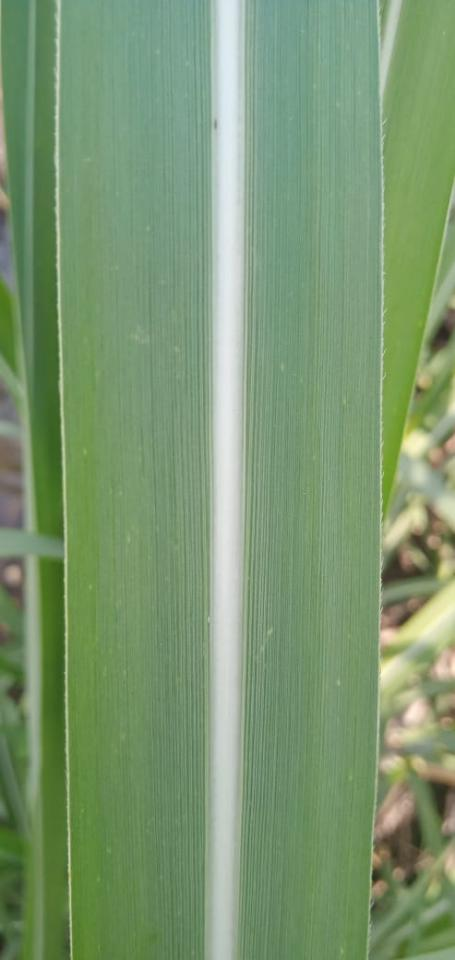Healthy: (58, 0, 381, 959), (379, 0, 454, 508), (1, 0, 63, 543), (30, 556, 67, 959)
